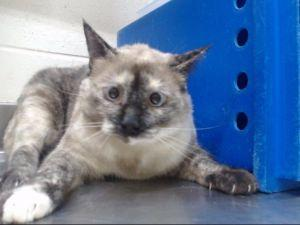siamese: (76, 19, 208, 153)
